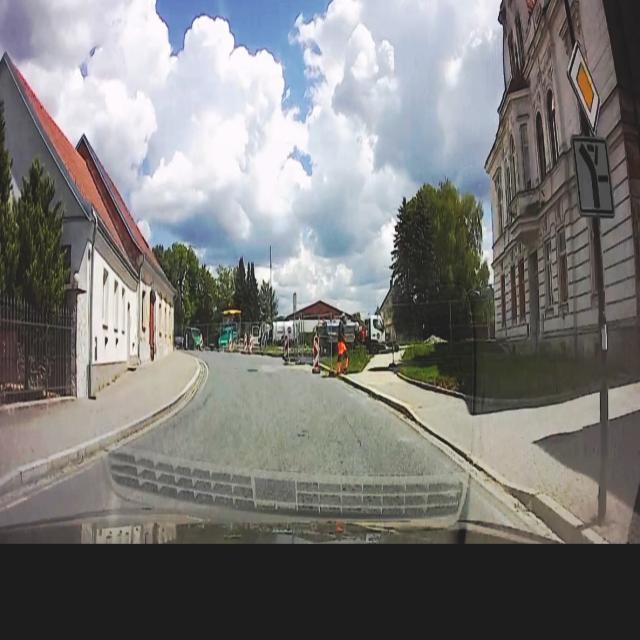Priority road: (558, 31, 610, 140)
